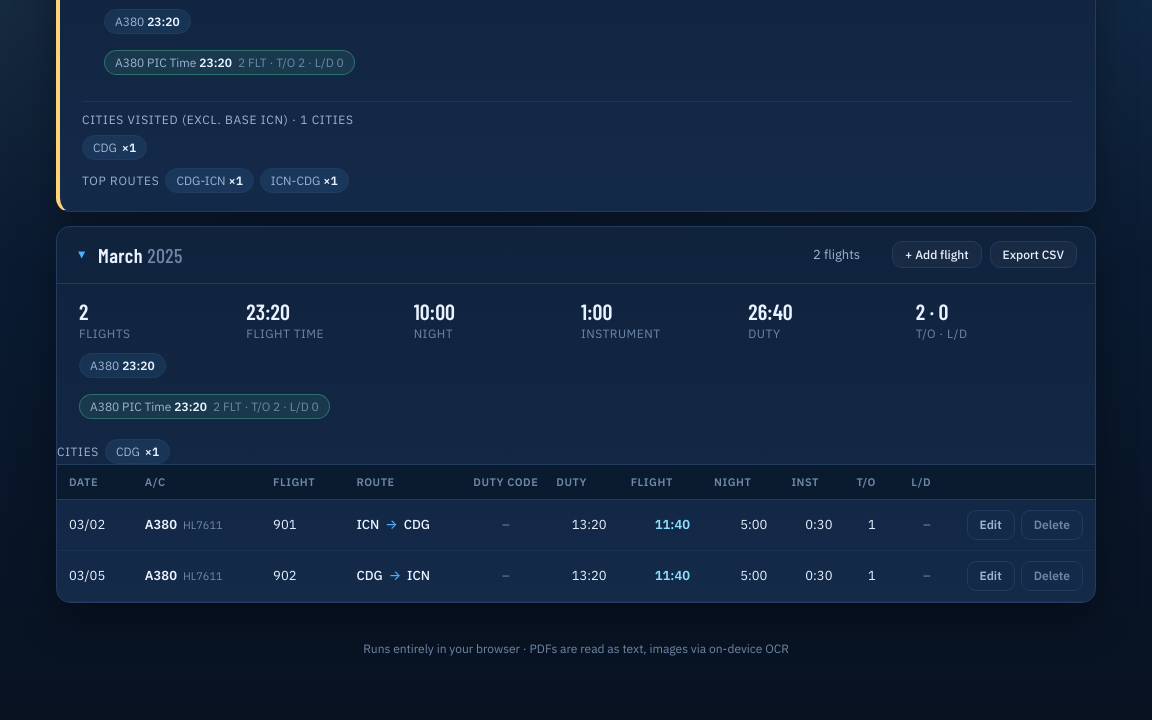
Test case: per-flight delete › deletes the row after the confirmation is accepted
(page scrolled)
Click the button with aria-label "Delete the 2025/03/02": (1052, 525) [1021,510,1083,540]
(page scrolled)
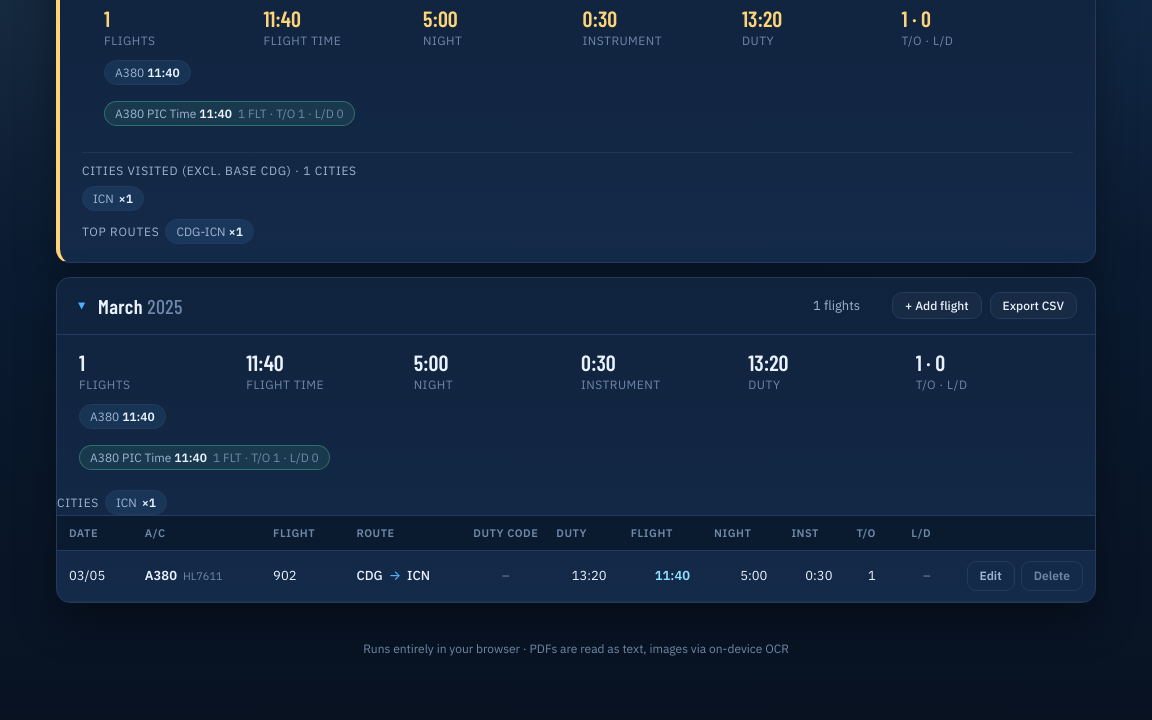
expect the text "902" is shown: met, box [261,550,344,601]
expect the text "901" is gone: met
